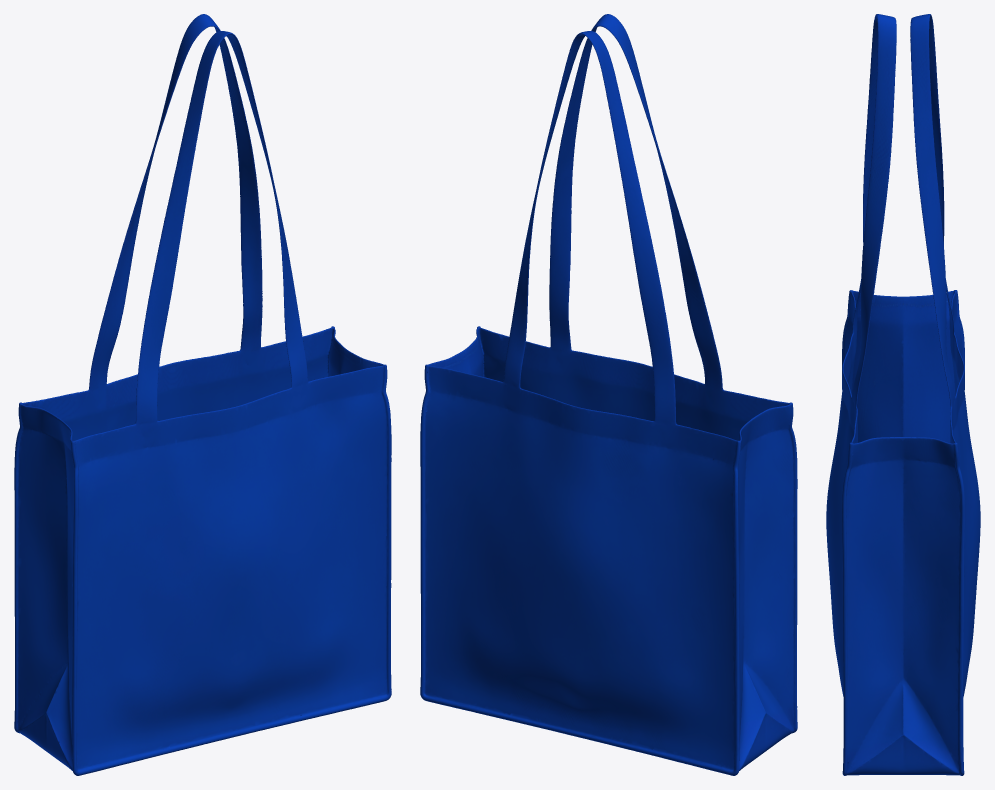
Rendered from Reusable_Bag_Medium.glb.
3 views of the same model, side by side, from view 1: azimuth 30°, elevation 25°; view 2: azimuth 150°, elevation 25°; view 3: azimuth 270°, elevation 25° (orthographic).
Visible parts, largest first — view 1: Reusable_Shopping_Bag.001; view 2: Reusable_Shopping_Bag.001; view 3: Reusable_Shopping_Bag.001.
Boxes of the visible parts, x1,y1,x2,y2 form: Reusable_Shopping_Bag.001: (14, 14, 391, 775); Reusable_Shopping_Bag.001: (420, 14, 797, 775); Reusable_Shopping_Bag.001: (826, 14, 980, 775).
Size of the model in its own units: 0.3029 by 0.6283 by 0.1268.
1 material, 1 textured.
